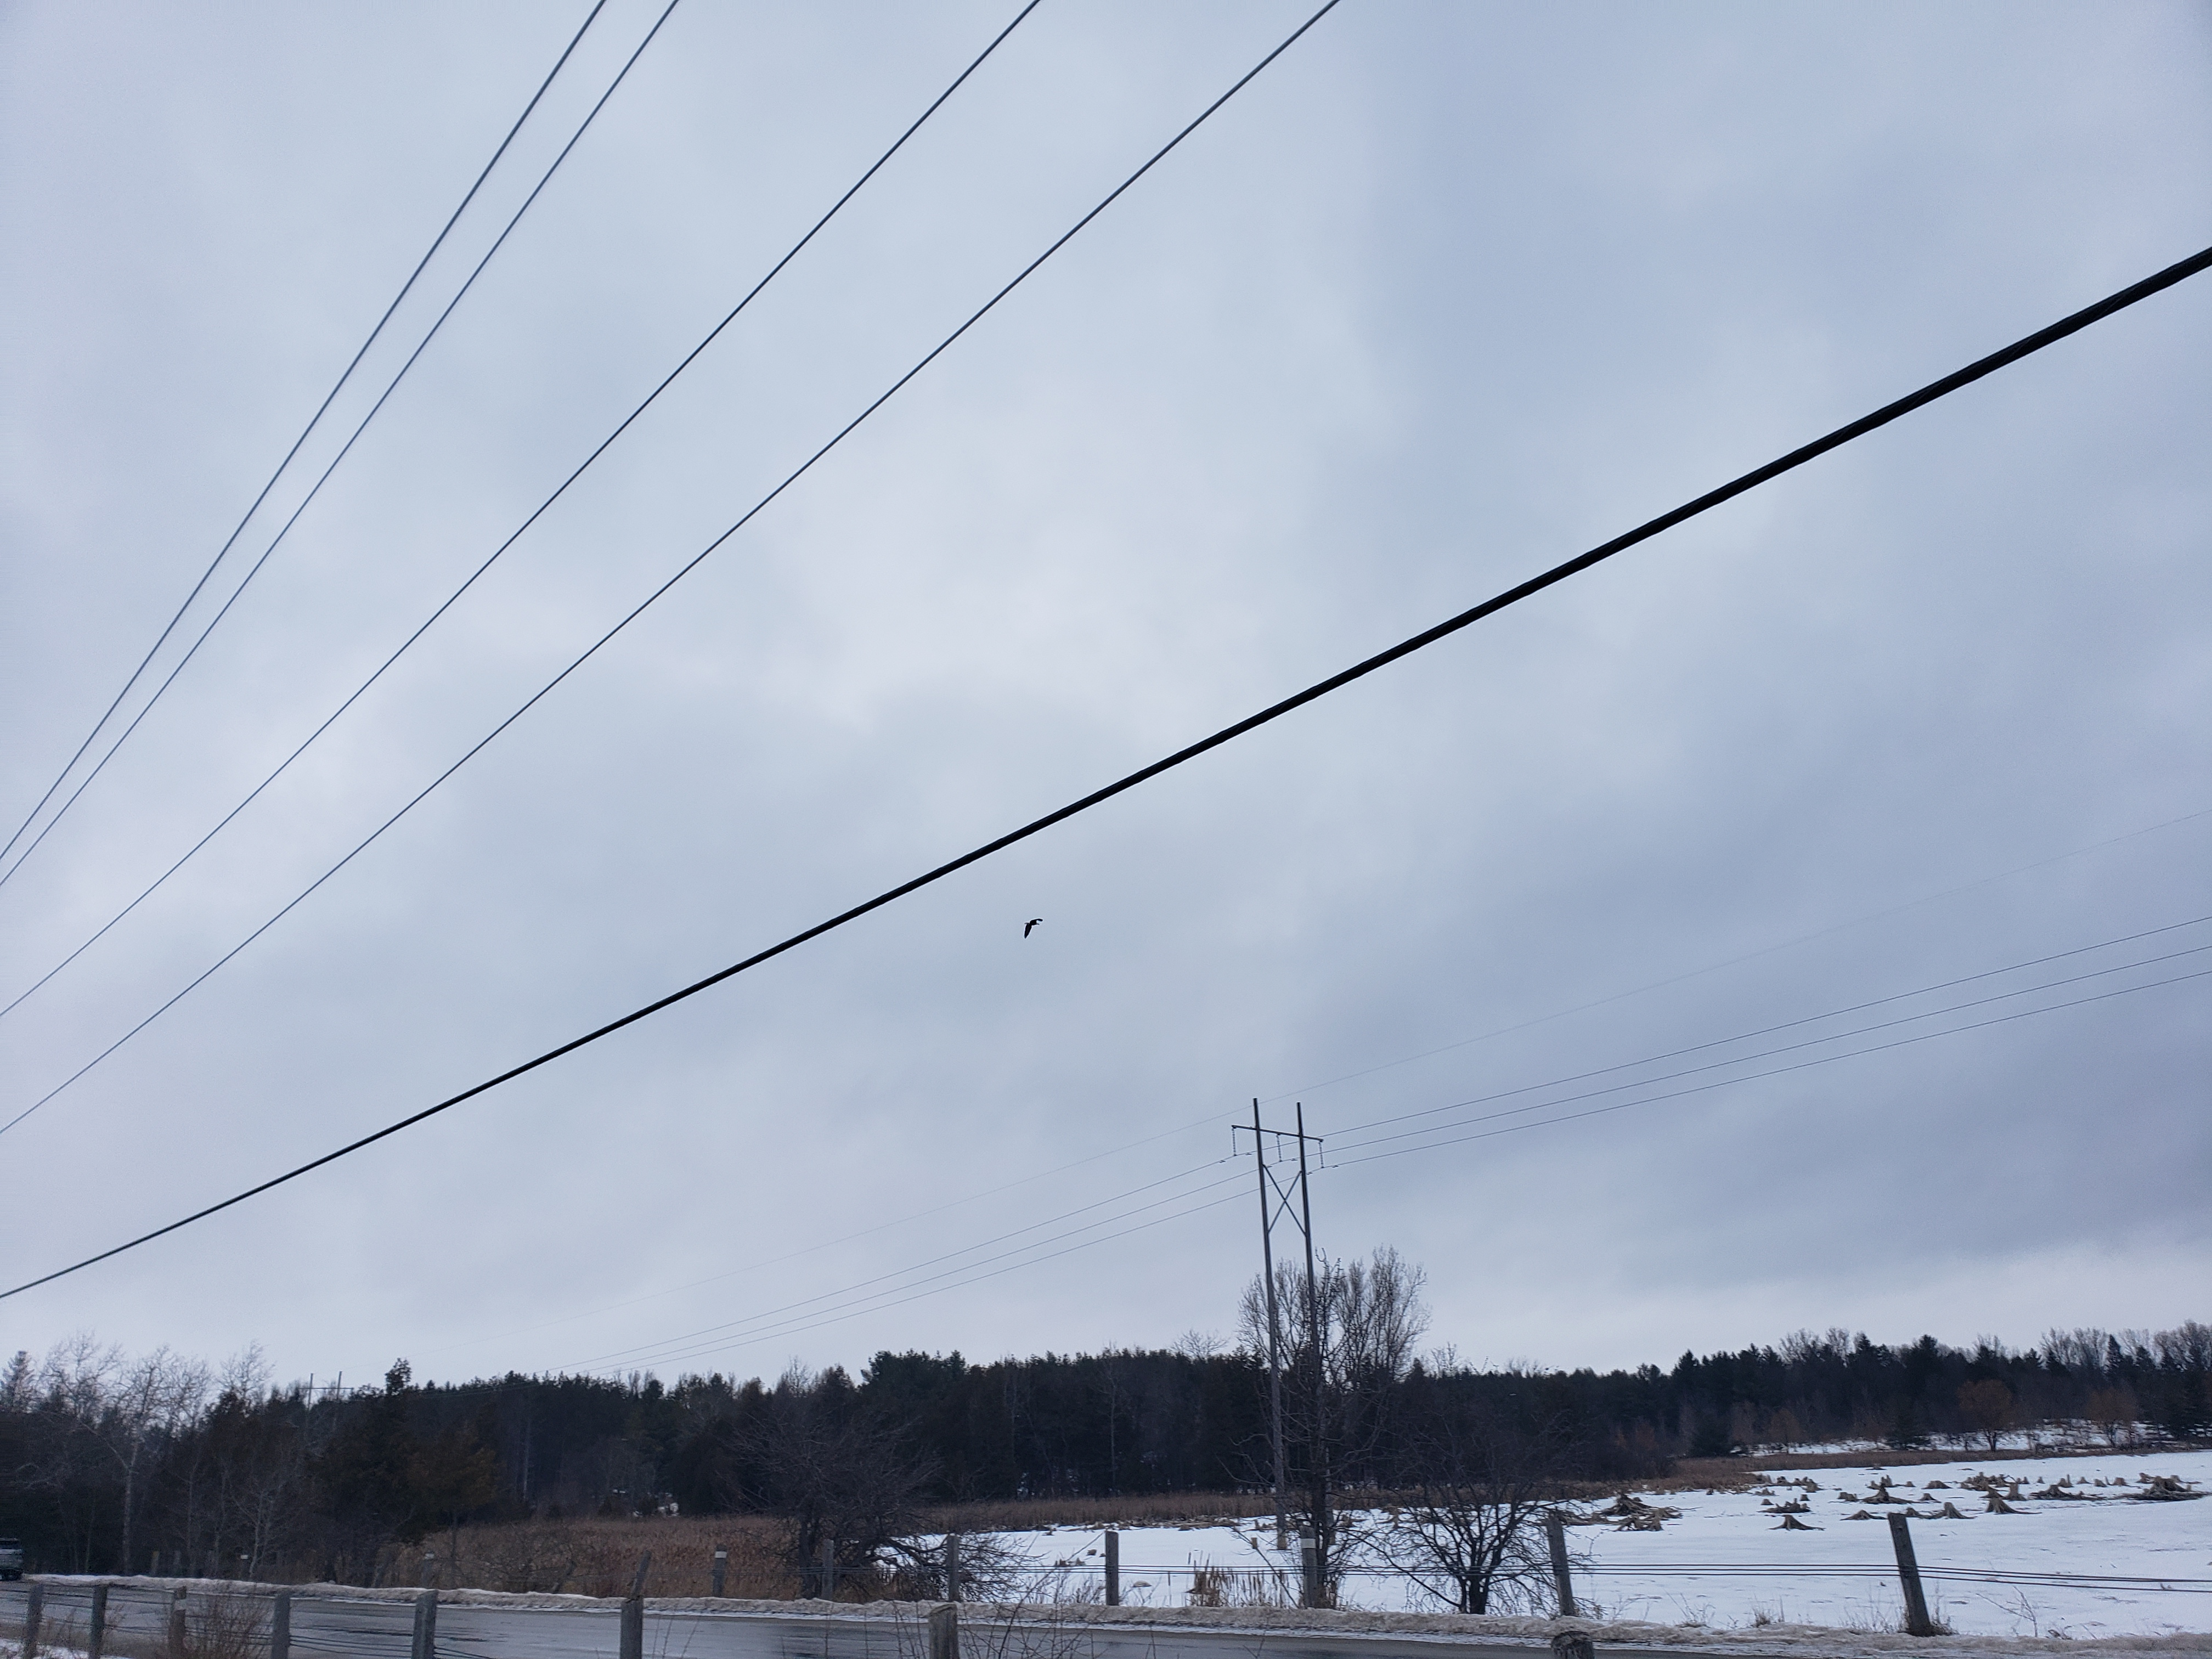goose: (1017, 913, 1047, 941)
